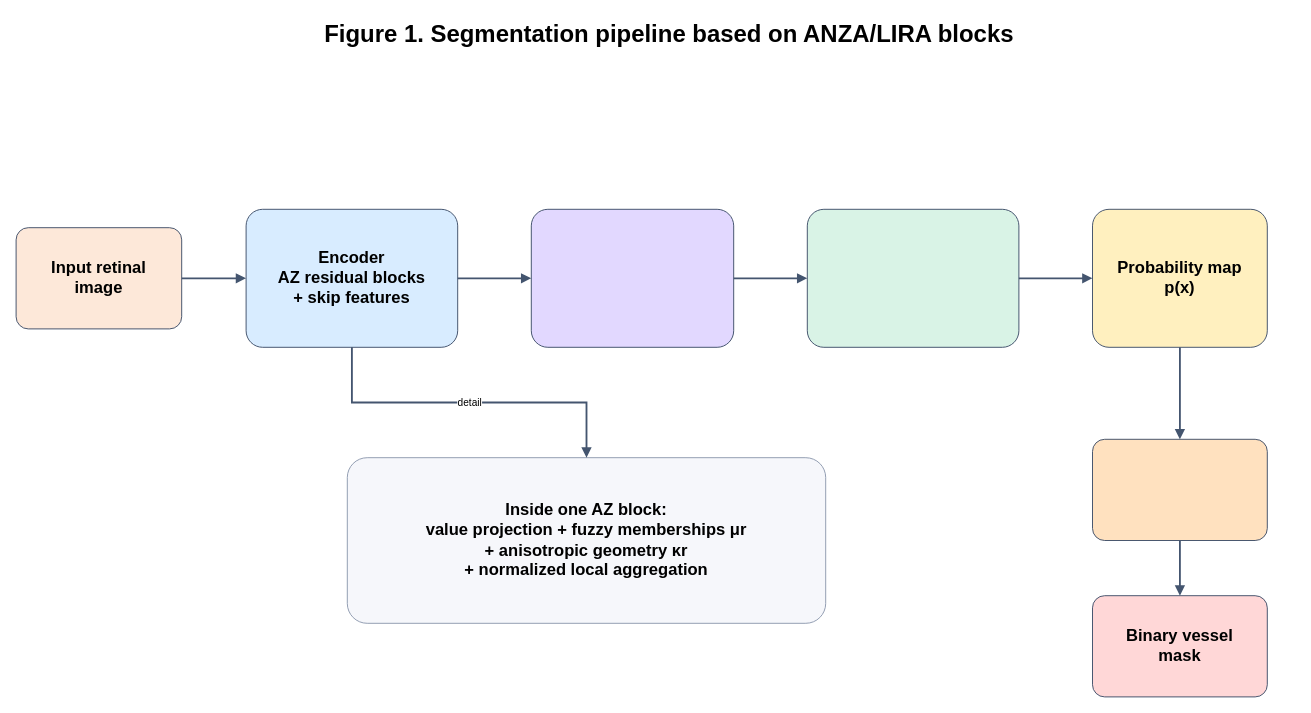
The diagram is 1311 pixels wide and 713 high, and some of its shapes have lost their labels. Each missing label, with the centre of its shape:
Bottleneck AZ / ASPP refinement: [632,277]
Decoder residual fusion + AZ guidance: [912,277]
Threshold τ: [1179,489]
